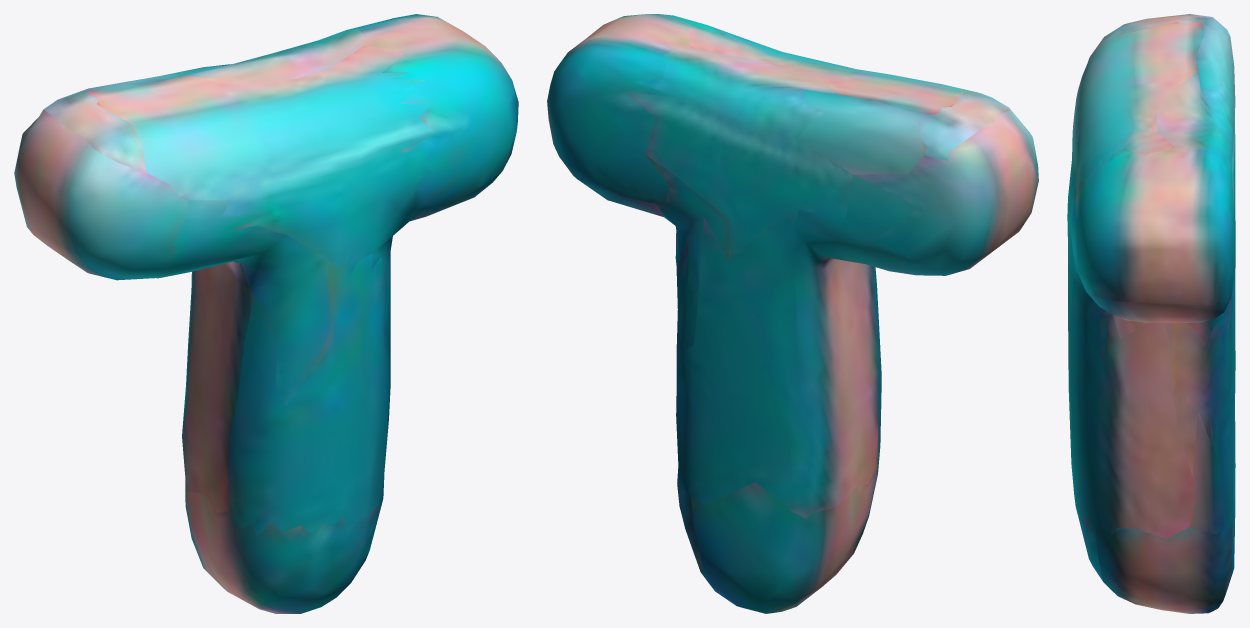
3 views of the same model, side by side, from view 1: azimuth 30°, elevation 25°; view 2: azimuth 150°, elevation 25°; view 3: azimuth 270°, elevation 25° (orthographic). The views are drawn at different scales.
Parts seen in each view (by area): view 1: Candy-Letter-T; view 2: Candy-Letter-T; view 3: Candy-Letter-T.
Part boxes in pixels (<box>): Candy-Letter-T: <box>14,14,518,613</box>; Candy-Letter-T: <box>547,14,1038,613</box>; Candy-Letter-T: <box>1067,14,1235,613</box>.
Size of the model in its own units: 0.3112 by 0.3534 by 0.1066.
Materials: 1 (1 with a texture image).
